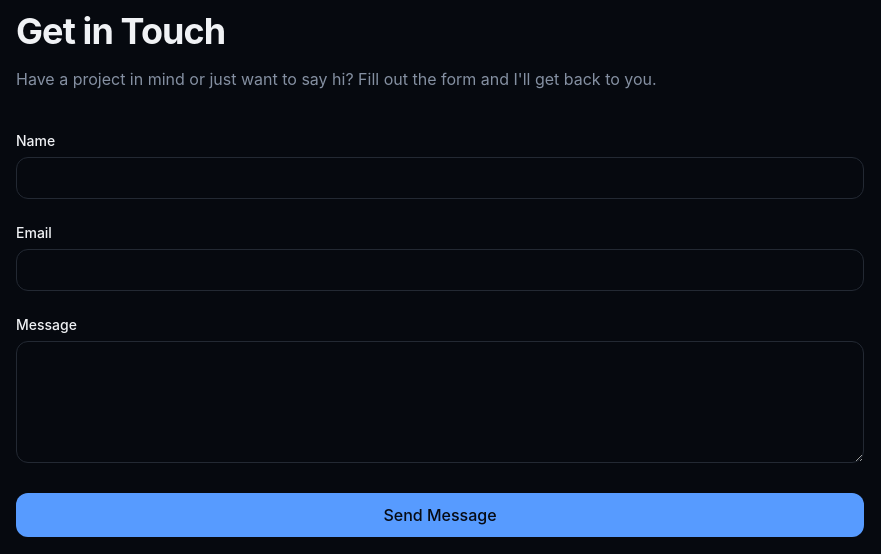
Test case: Contact component › shows success message after successful submission
This screenshot has width=881, height=554.
Click the button "Send Message".
click(440, 515)  # box x1=16 y1=493 x2=864 y2=537
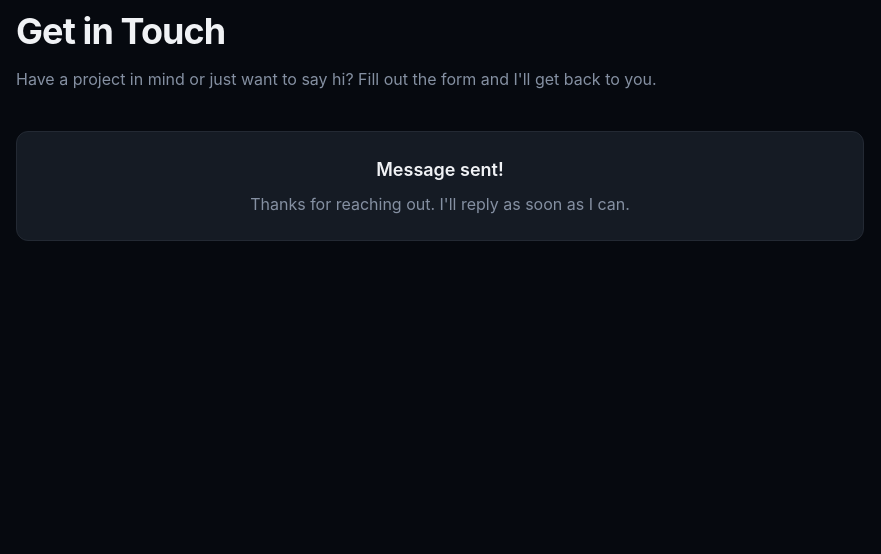
Expected: the message shows "Message sent", x1=376 y1=159 x2=504 y2=180
